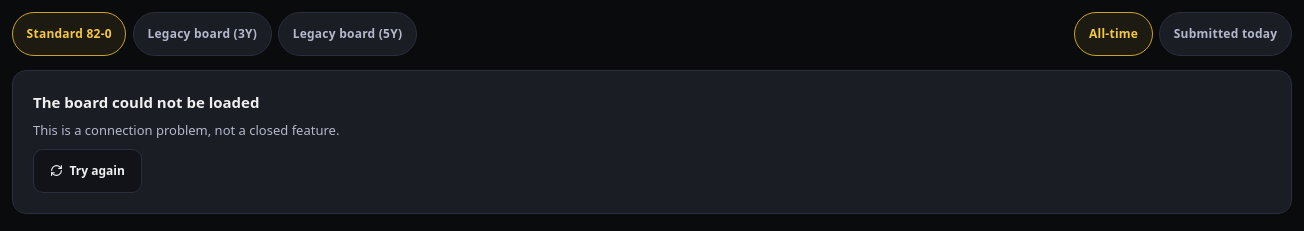
Test: the four states are four different things › retries for real, rather than telling a reader to reload
Click the button with test id "ps-board-retry" at (87, 171), box [33,149,142,193]
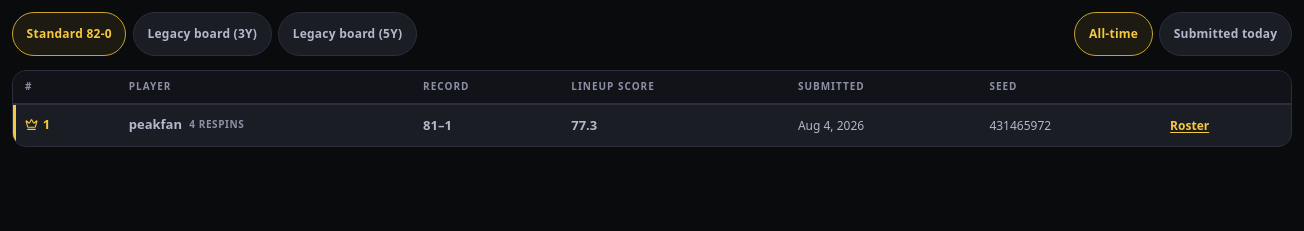
Expected: the table with test id "leaderboard-table" is shown, [13,71,1291,146]
